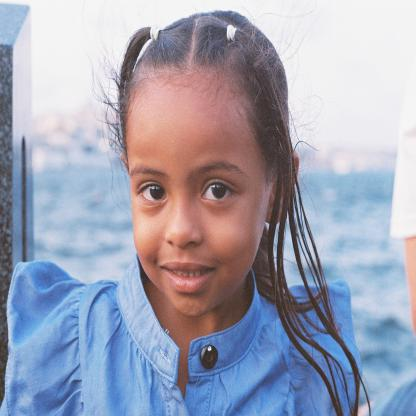Eye: (134, 173, 170, 212), (198, 176, 239, 206)
Mouth: (160, 253, 219, 296)
Nose: (162, 200, 207, 252)
